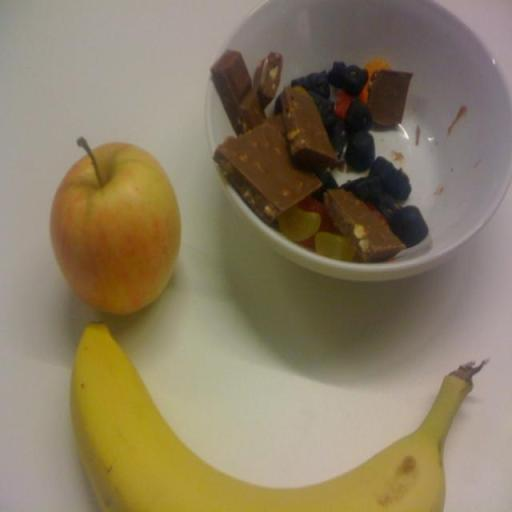fruit: (71, 324, 482, 511), (51, 140, 180, 314)
